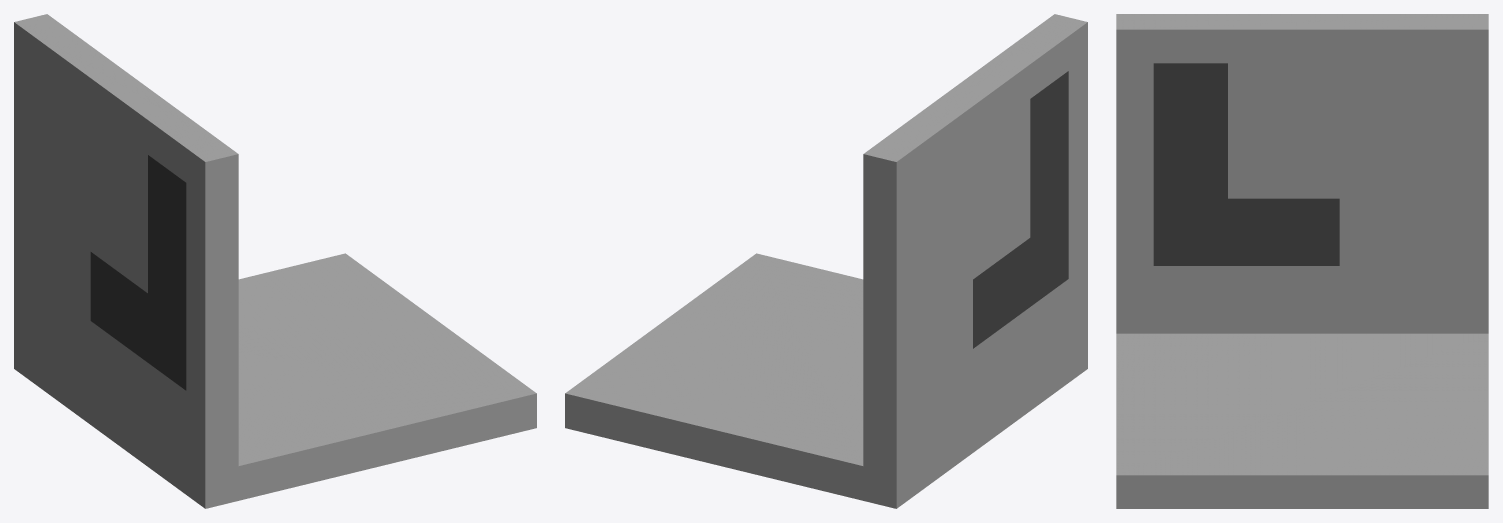
The model's file is BRT.obj.
The picture shows the model from 3 angles, left to right: view 1: azimuth 30°, elevation 25°; view 2: azimuth 150°, elevation 25°; view 3: azimuth 270°, elevation 25°; orthographic projection. The views are drawn at different scales.
Parts seen in each view (by area): view 1: BRT; view 2: BRT; view 3: BRT.
Boxes of the visible parts, x1=… form: BRT: x1=14, y1=14, x2=536, y2=508; BRT: x1=565, y1=14, x2=1087, y2=508; BRT: x1=1116, y1=14, x2=1488, y2=508.
Bounding box in the file's own units: 10 × 10 × 10.
1 material, 1 textured.
